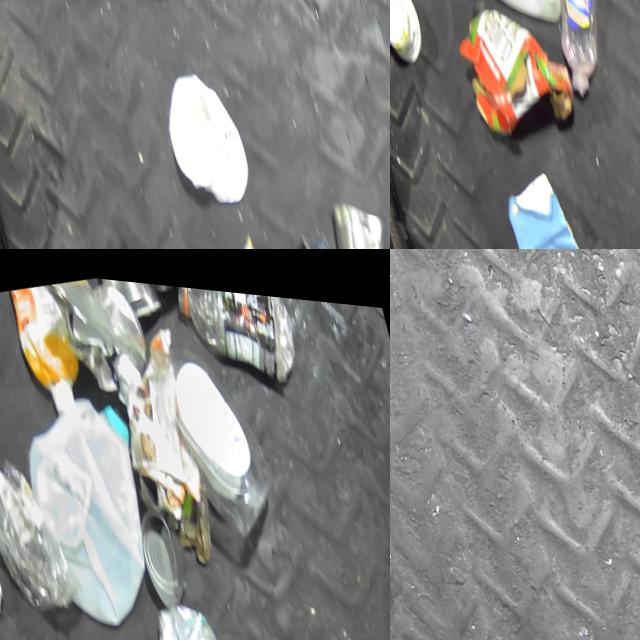can: (39, 268, 157, 401), (133, 495, 192, 604), (316, 176, 390, 249), (146, 585, 231, 640), (99, 272, 163, 319), (141, 276, 196, 289)
milk_jug: (14, 379, 174, 634)
non_white_jug: (6, 273, 90, 412)
plastic_bottle: (168, 278, 304, 396), (527, 0, 635, 99)
